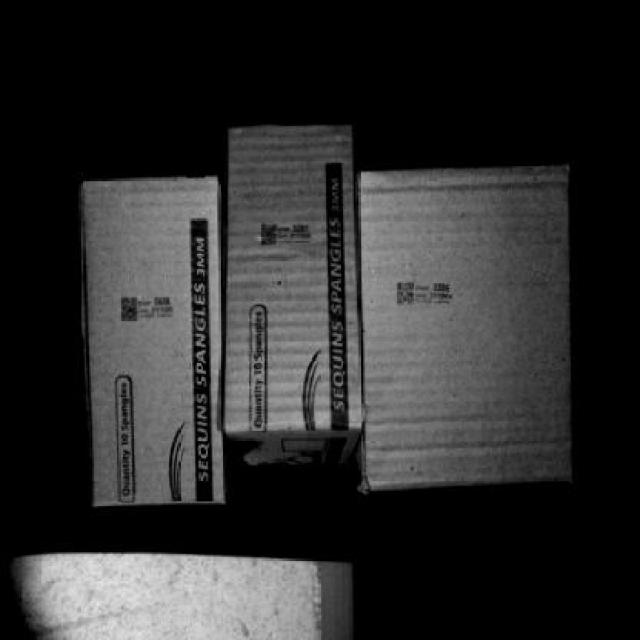cardboxes: (361, 167, 562, 478), (85, 180, 222, 506), (83, 179, 220, 499), (231, 121, 364, 439)
